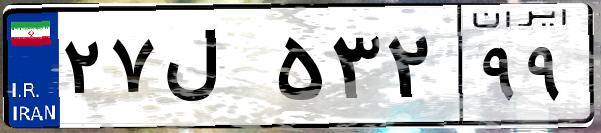2: (385, 28, 445, 110), (57, 26, 110, 100)
3: (330, 28, 385, 110)
5: (270, 28, 330, 110)
7: (110, 28, 158, 98)
9: (475, 38, 525, 113), (525, 38, 570, 115)
ل: (158, 20, 270, 120)
